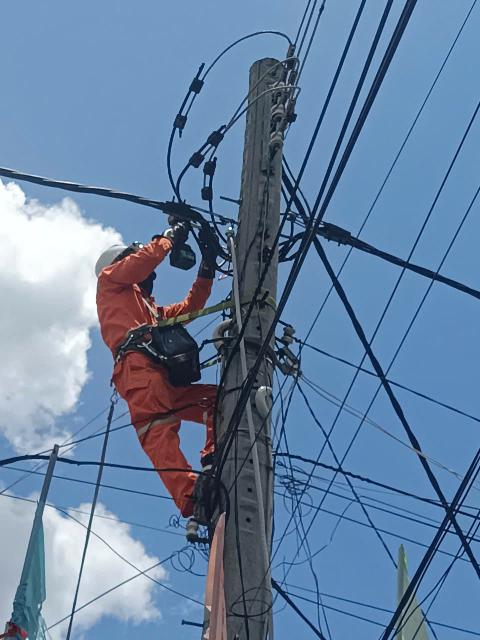gloves: (191, 226, 227, 280)
harness: (107, 323, 208, 368)
helmet: (81, 238, 148, 280)
